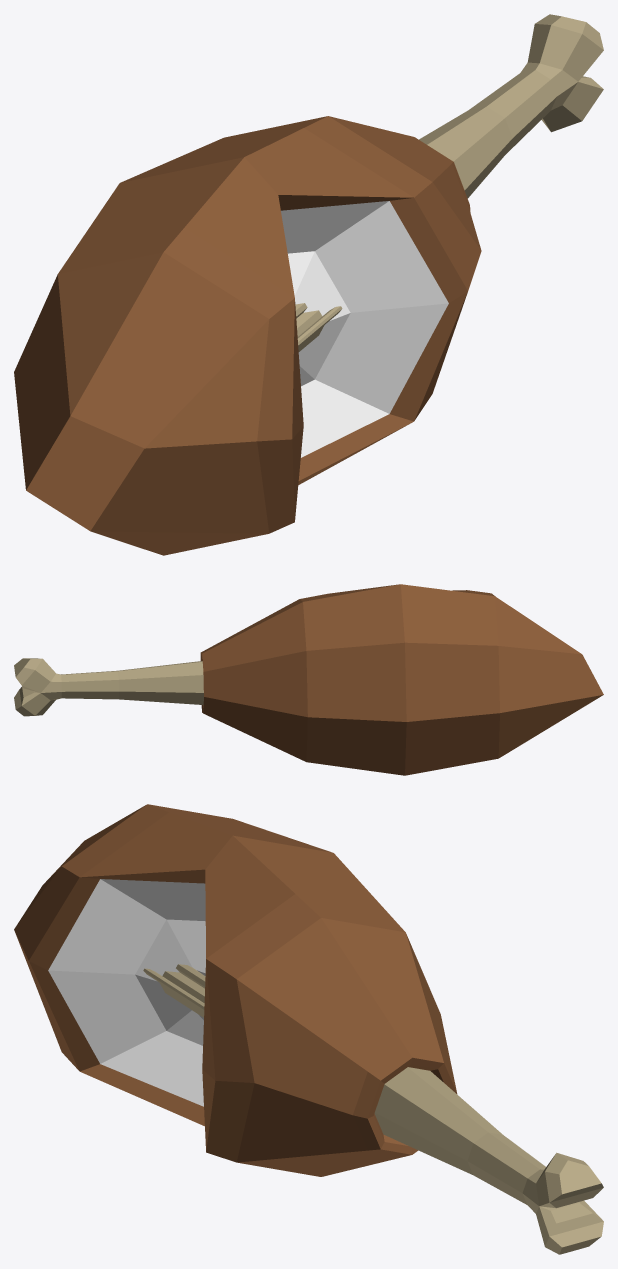
File: chicken.gltf
3 views of the same model, one above another, from view 1: azimuth 30°, elevation 25°; view 2: azimuth 150°, elevation 25°; view 3: azimuth 270°, elevation 25° (orthographic). The views are drawn at different scales.
Visible parts, largest first — view 1: Cylinder; view 2: Cylinder; view 3: Cylinder, Cylinder.001.
Part boxes in pixels (<box>): Cylinder: <box>14,14,603,555</box>; Cylinder: <box>14,584,603,775</box>; Cylinder: <box>14,804,603,1254</box>; Cylinder.001: <box>160,971,204,1017</box>.
Bounding box in the file's own units: 0.9301 × 0.3751 × 0.6474.
